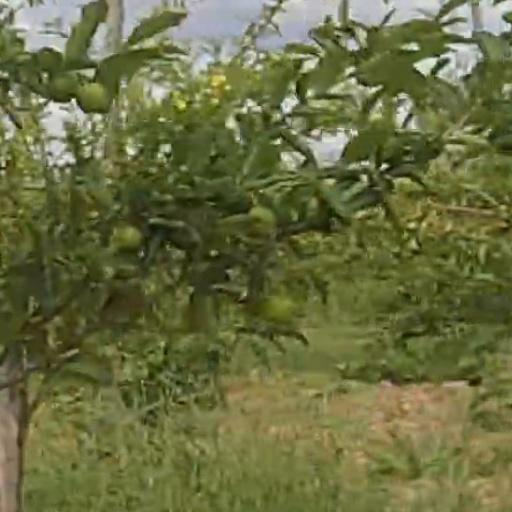acerola_verde: (79, 87, 111, 115), (50, 72, 77, 104)
